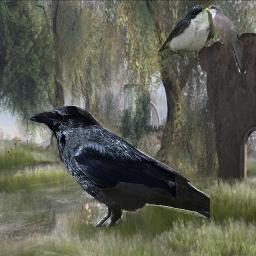Crow: (26, 105, 210, 227)
Cuckoo: (202, 4, 247, 75)
Swallow: (157, 5, 215, 63)
